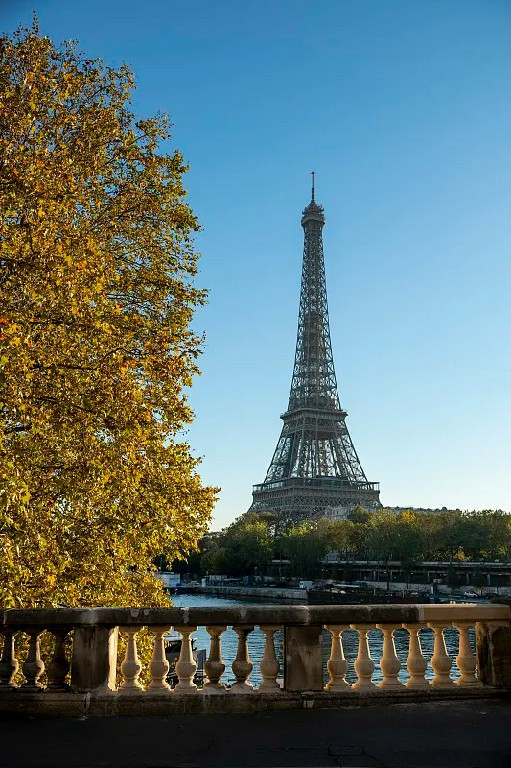Eiffel: (245, 171, 383, 537)
